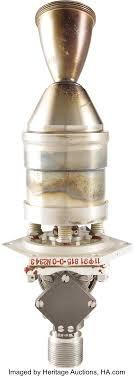thruster: (32, 0, 98, 90)
